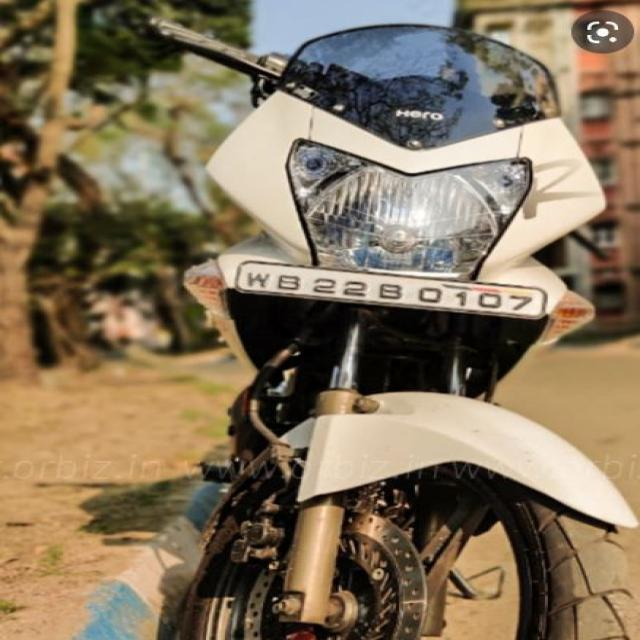license_plate: (232, 259, 548, 320)
